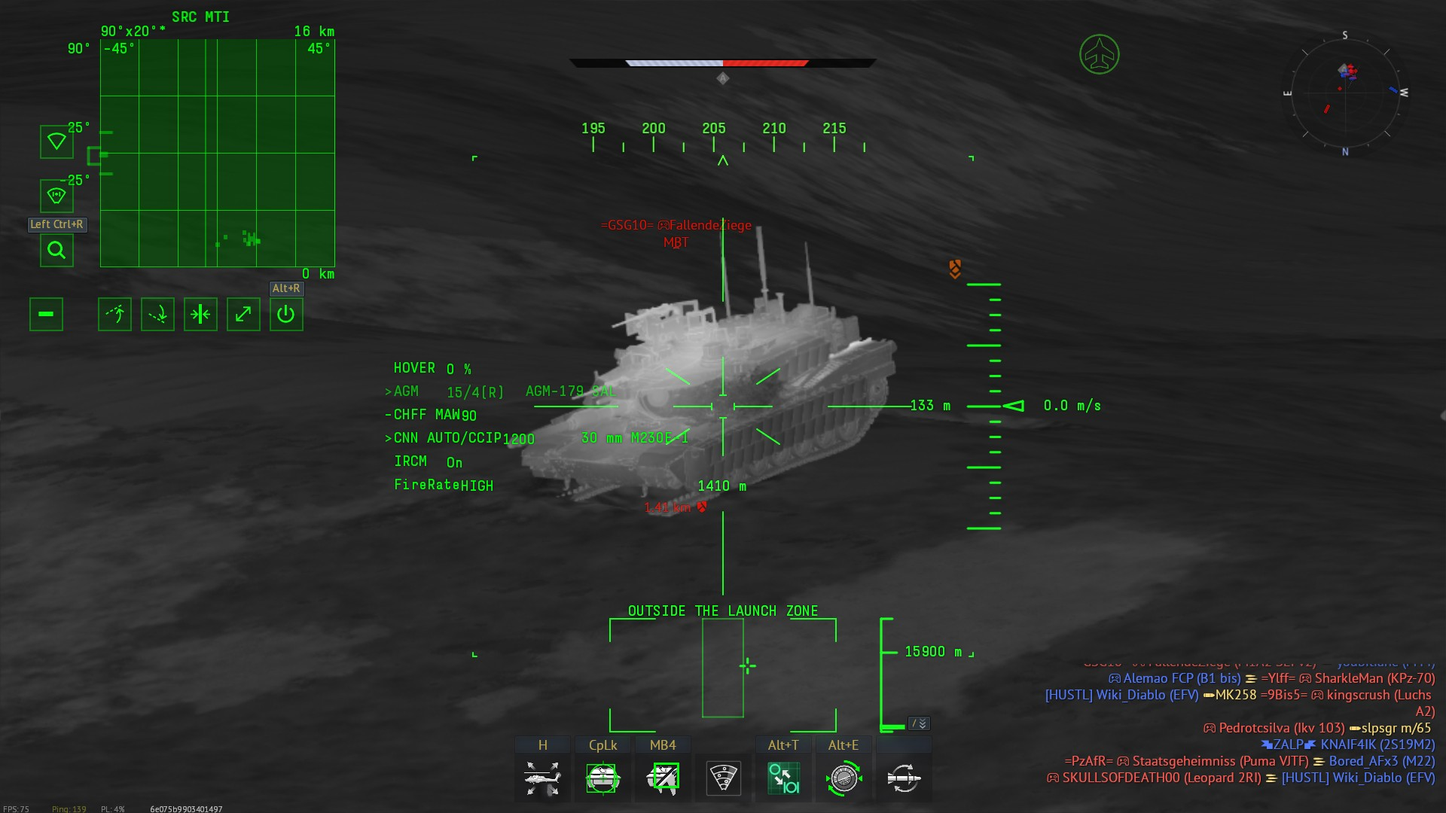abrams: (509, 294, 898, 519)
